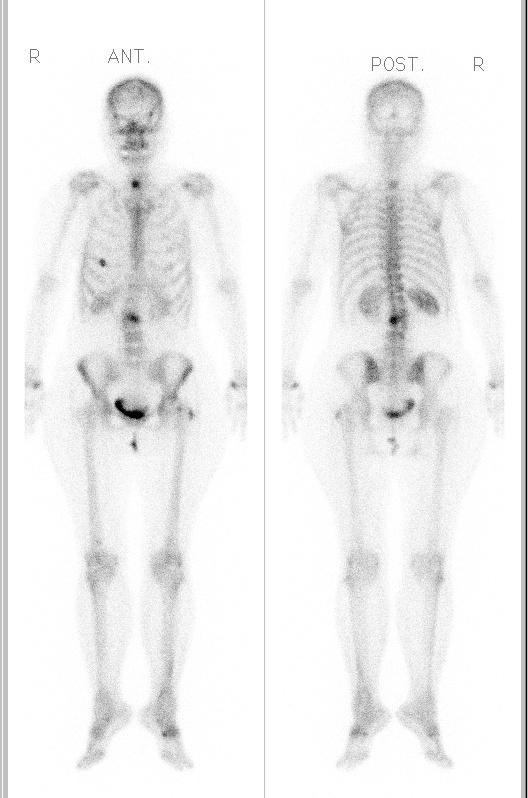person: (8, 1, 522, 798)
